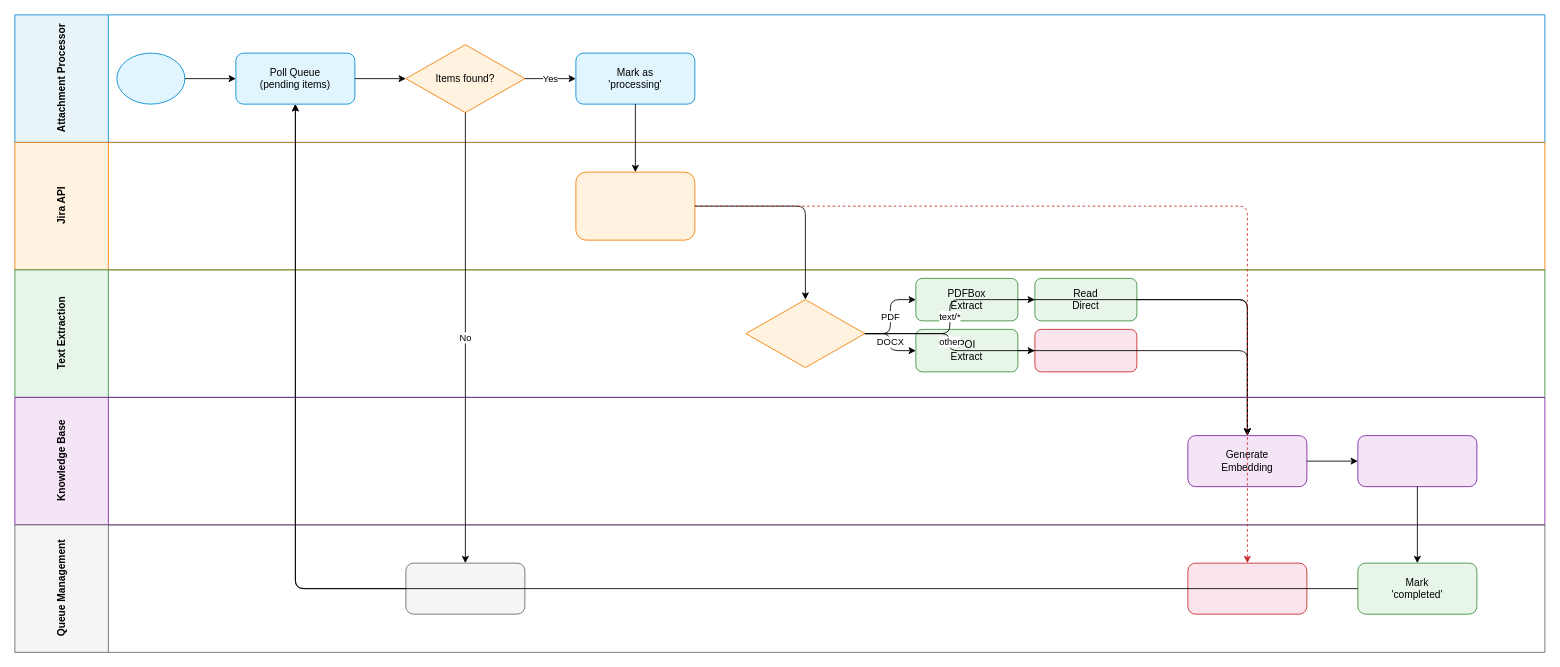
This 1560x667 diagram has some shape labels left out. The centre of each missing label's shape, as x and y in pixels:
"Backoff (exponential)" goes at point 465,588.
"Check MIME Type" goes at point 805,333.
"Download Attachment (max 3 concurrent)" goes at point 635,205.
"Ingest to Qdrant" goes at point 1417,461.
"Mark 'failed'" goes at point 1247,588.
"Skip (unsupported)" goes at point 1085,350.
"Start Worker" goes at point 150,78.
